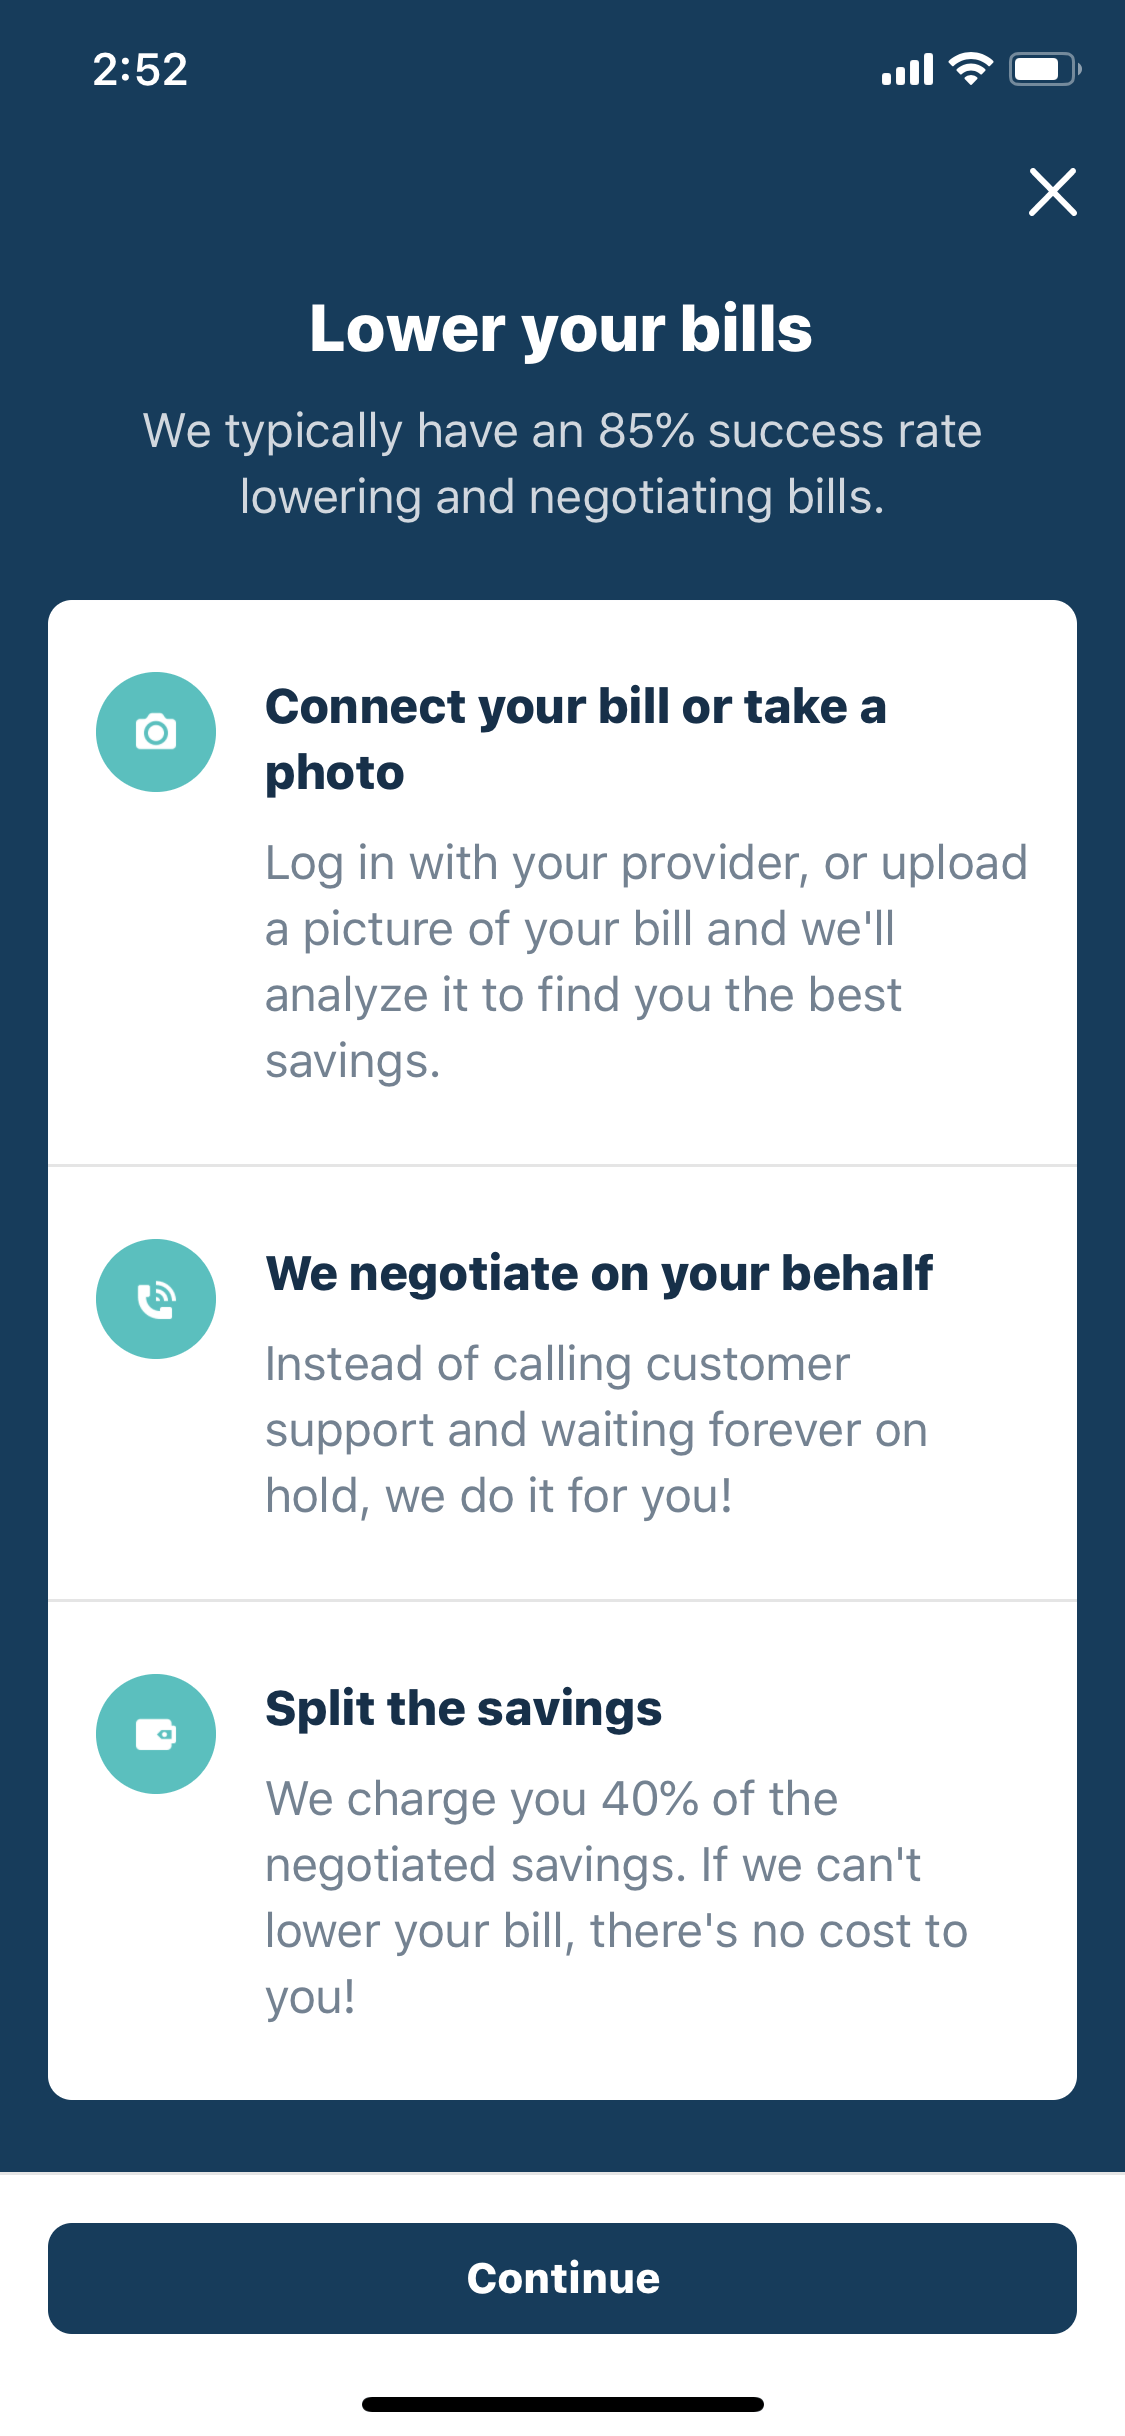Buttons: (30, 2203, 1097, 2363), (985, 123, 1106, 245)
